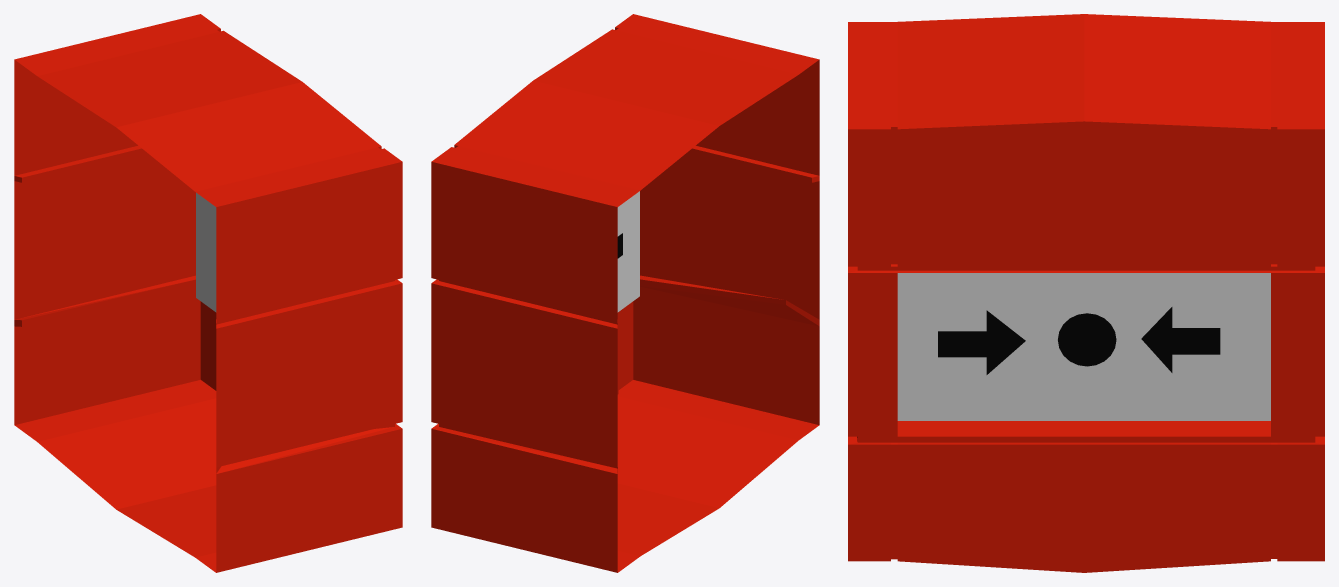
File: Firepoint_policePost.fbx
The picture shows the model from 3 angles, left to right: view 1: azimuth 30°, elevation 25°; view 2: azimuth 150°, elevation 25°; view 3: azimuth 270°, elevation 25°; orthographic projection. The views are drawn at different scales.
Parts seen in each view (by area): view 1: pCube13; view 2: pCube13; view 3: pCube13, pCylinder6.
Boxes of the visible parts, x1=… form: pCube13: x1=14, y1=14, x2=402, y2=572; pCube13: x1=431, y1=14, x2=819, y2=572; pCube13: x1=848, y1=14, x2=1324, y2=572; pCylinder6: x1=1058, y1=313, x2=1116, y2=366.
Size of the model in its own units: 8.66 by 16.96 by 16.23.
